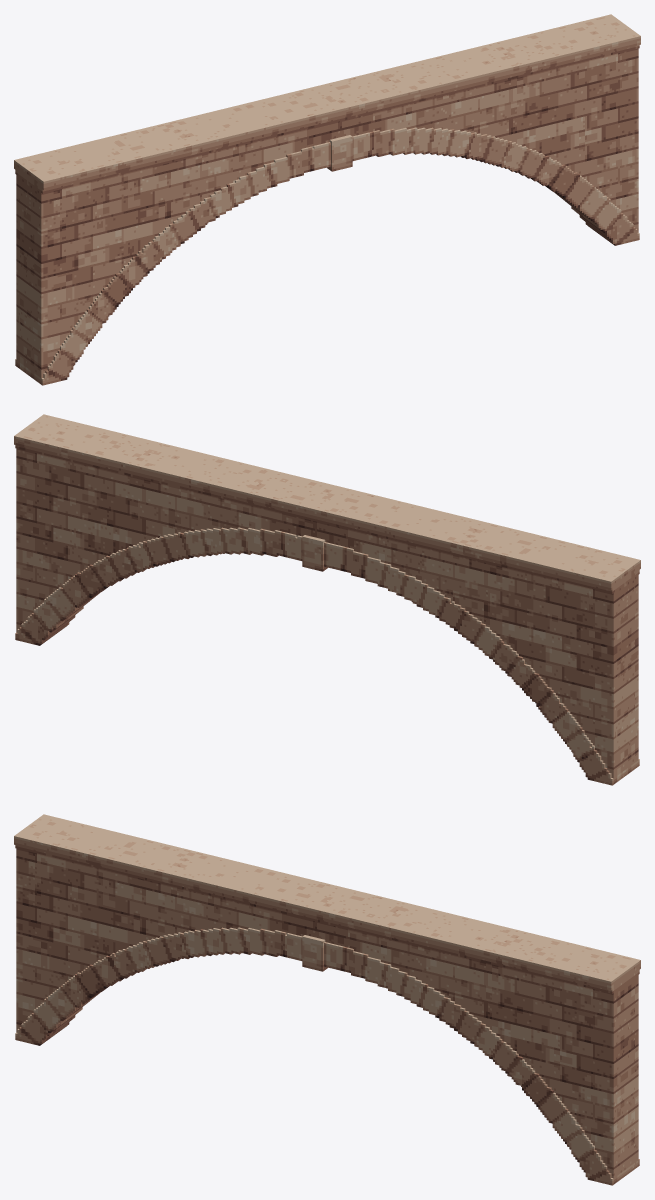
File: arch.glb
3 renders of one model, top to bottom at view 1: azimuth 30°, elevation 25°; view 2: azimuth 150°, elevation 25°; view 3: azimuth 330°, elevation 25°, orthographic.
Parts seen in each view (by area): view 1: Arch; view 2: Arch; view 3: Arch.
Boxes of the visible parts, <box> form: Arch: <box>14,14,640,385</box>; Arch: <box>14,414,640,785</box>; Arch: <box>14,814,640,1185</box>.
Bounding box in the file's own units: 11.6 × 3.8 × 1.
